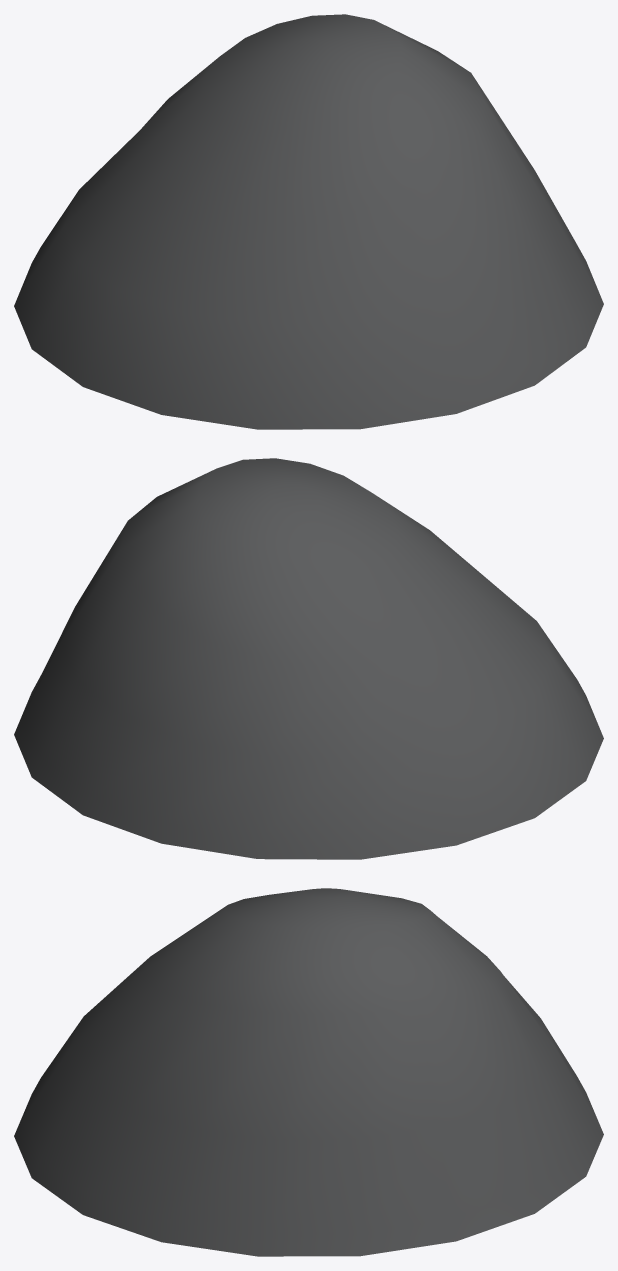
The model's file is Sand_2.fbx.
3 views of the same model, one above another, from view 1: azimuth 30°, elevation 25°; view 2: azimuth 150°, elevation 25°; view 3: azimuth 270°, elevation 25° (orthographic).
Parts seen in each view (by area): view 1: Sand_2; view 2: Sand_2; view 3: Sand_2.
Part boxes in pixels (<box>): Sand_2: <box>14,14,603,429</box>; Sand_2: <box>14,458,603,859</box>; Sand_2: <box>14,888,603,1256</box>.
Size of the model in its own units: 377 by 180 by 383.
